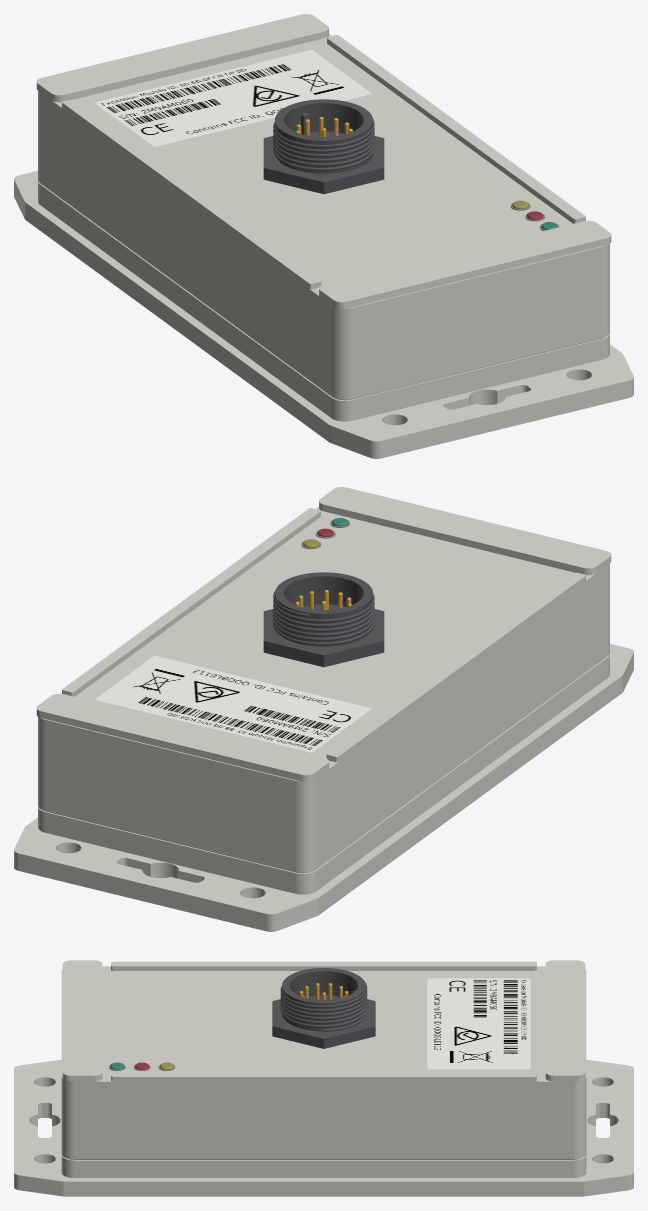
The model's file is Expansion_Module-ligero.glb.
3 renders of one model, top to bottom at view 1: azimuth 30°, elevation 25°; view 2: azimuth 150°, elevation 25°; view 3: azimuth 270°, elevation 25°, orthographic. The views are drawn at different scales.
Parts seen in each view (by area): view 1: 04 Upper shell, 01 Mounting base, 02 Lower shoulder, 16 Product label, 06 End step -58.4, 06 End step 58.4, 09 Connector threaded barrel, 05 Long raised rail -31.6, 05 Long raised rail 31.6, 08 Hexagonal connector nut, 11 Helical thread; view 2: 04 Upper shell, 01 Mounting base, 16 Product label, 02 Lower shoulder, 06 End step 58.4, 06 End step -58.4, 09 Connector threaded barrel, 05 Long raised rail -31.6, 05 Long raised rail 31.6, 08 Hexagonal connector nut, 11 Helical thread; view 3: 04 Upper shell, 01 Mounting base, 16 Product label, 02 Lower shoulder, 06 End step -58.4, 06 End step 58.4, 05 Long raised rail 31.6, 05 Long raised rail -31.6, 09 Connector threaded barrel, 08 Hexagonal connector nut, 11 Helical thread, 03 Perimeter joint.
Boxes of the visible parts, box(x1,y1,x2,y2) form: 04 Upper shell: box(38, 34, 609, 399); 01 Mounting base: box(14, 170, 633, 458); 02 Lower shoulder: box(38, 181, 609, 421); 16 Product label: box(94, 50, 371, 146); 06 End step -58.4: box(319, 220, 611, 308); 06 End step 58.4: box(36, 14, 328, 102); 09 Connector threaded barrel: box(275, 99, 372, 173); 05 Long raised rail -31.6: box(62, 99, 321, 289); 05 Long raised rail 31.6: box(327, 35, 585, 223); 08 Hexagonal connector nut: box(263, 136, 384, 194); 11 Helical thread: box(273, 119, 374, 170); 04 Upper shell: box(38, 507, 609, 872); 01 Mounting base: box(14, 643, 633, 931); 16 Product label: box(94, 655, 371, 752); 02 Lower shoulder: box(38, 654, 609, 894); 06 End step 58.4: box(36, 693, 328, 781); 06 End step -58.4: box(319, 487, 611, 575); 09 Connector threaded barrel: box(275, 572, 372, 646); 05 Long raised rail -31.6: box(326, 572, 585, 762); 05 Long raised rail 31.6: box(62, 508, 320, 696); 08 Hexagonal connector nut: box(263, 609, 384, 667); 11 Helical thread: box(273, 591, 374, 645); 04 Upper shell: box(61, 966, 586, 1159); 01 Mounting base: box(14, 1059, 633, 1196); 16 Product label: box(427, 978, 530, 1069); 02 Lower shoulder: box(61, 1155, 586, 1177); 06 End step -58.4: box(62, 960, 102, 1081); 06 End step 58.4: box(545, 960, 585, 1081); 05 Long raised rail 31.6: box(111, 1072, 536, 1081); 05 Long raised rail -31.6: box(111, 961, 536, 970); 09 Connector threaded barrel: box(282, 968, 365, 1031); 08 Hexagonal connector nut: box(272, 999, 375, 1048); 11 Helical thread: box(280, 983, 367, 1031); 03 Perimeter joint: box(68, 1158, 579, 1159).
Size of the model in its own units: 0.07 by 0.04 by 0.15.
Materials: 9 (1 with a texture image).
